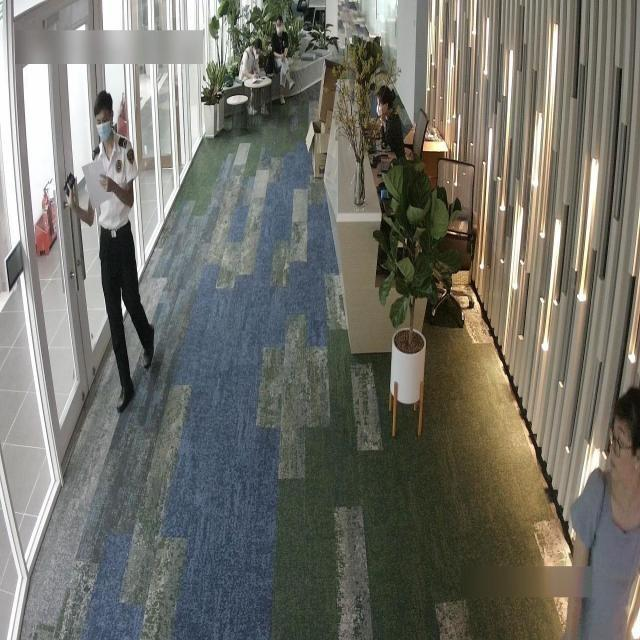mask: (94, 120, 113, 140)
no_apron: (98, 164, 116, 194)
no_gloves: (610, 391, 640, 441), (90, 90, 115, 116)
no_hairnet: (608, 453, 632, 488), (378, 84, 391, 106), (274, 10, 286, 28)
